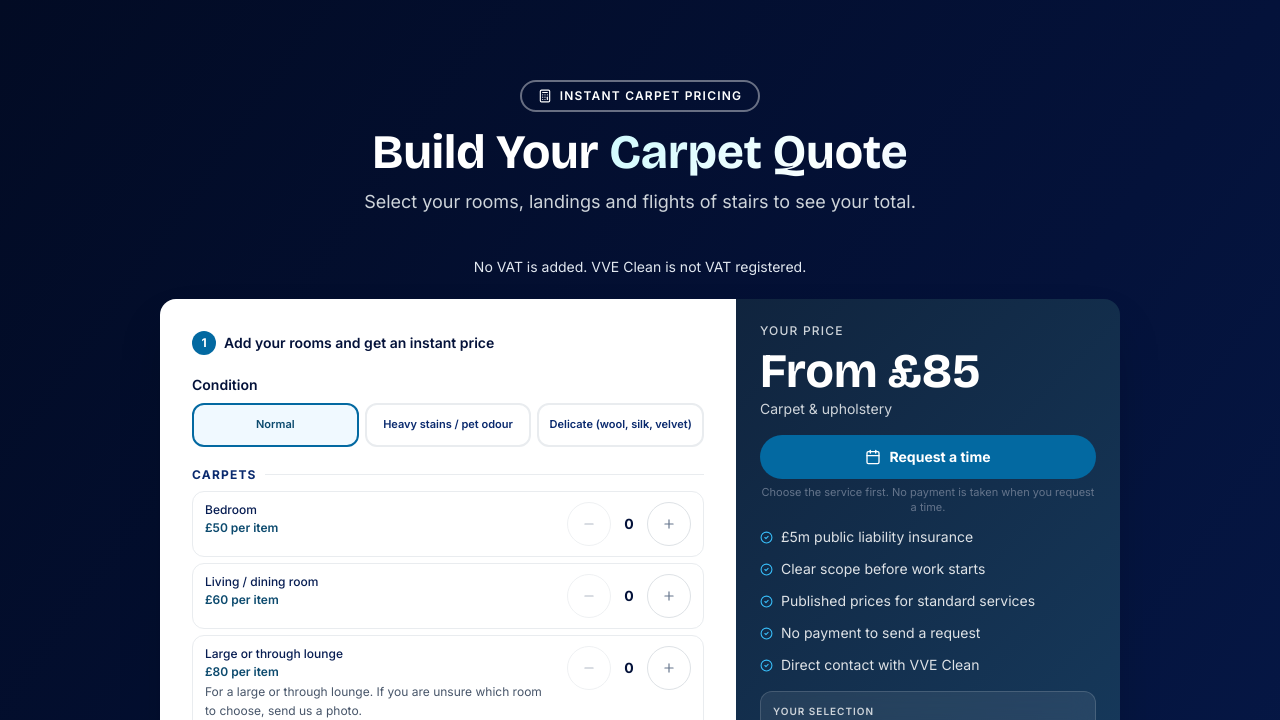
Test: Carpet page quote — carpet plus upholstery › adds a single sofa to the live total
The width and height of the screenshot is (1280, 720).
Click the button named "Increase Living / dining room quantity" at (669, 596), box [647,574,691,618]
(page scrolled)
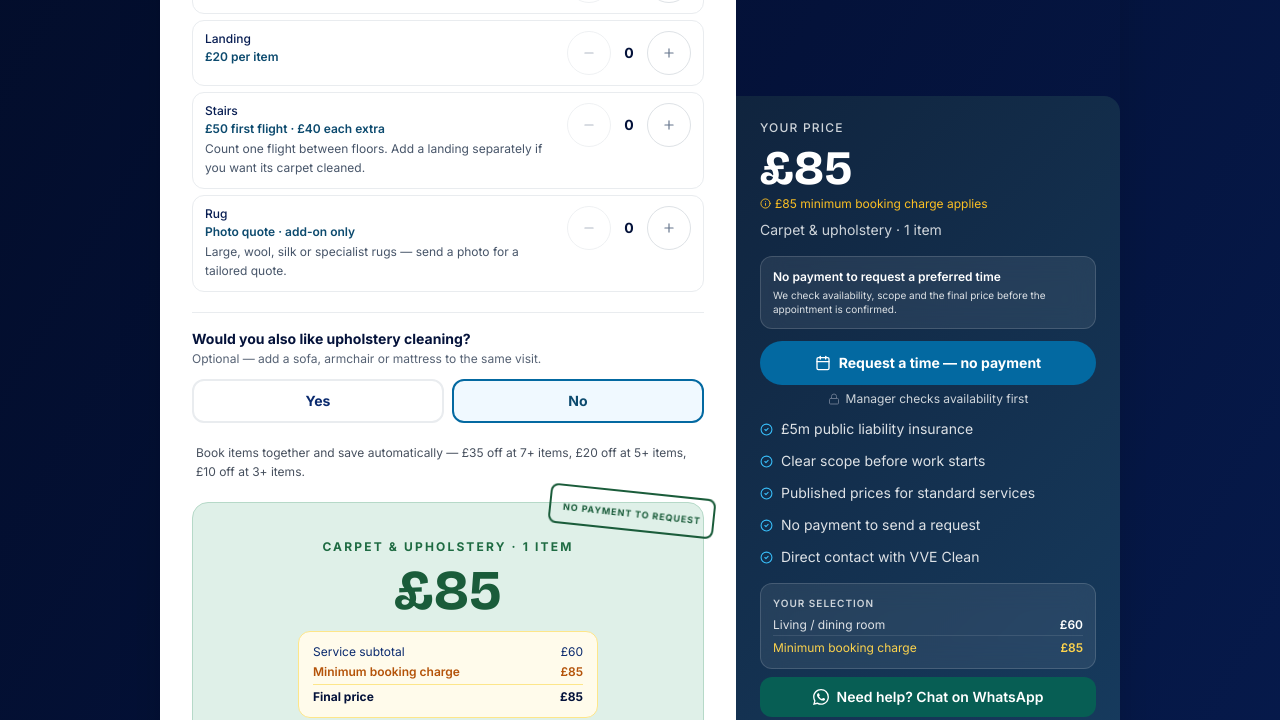
Click the button "Yes" at (318, 401), box [192,379,444,423]
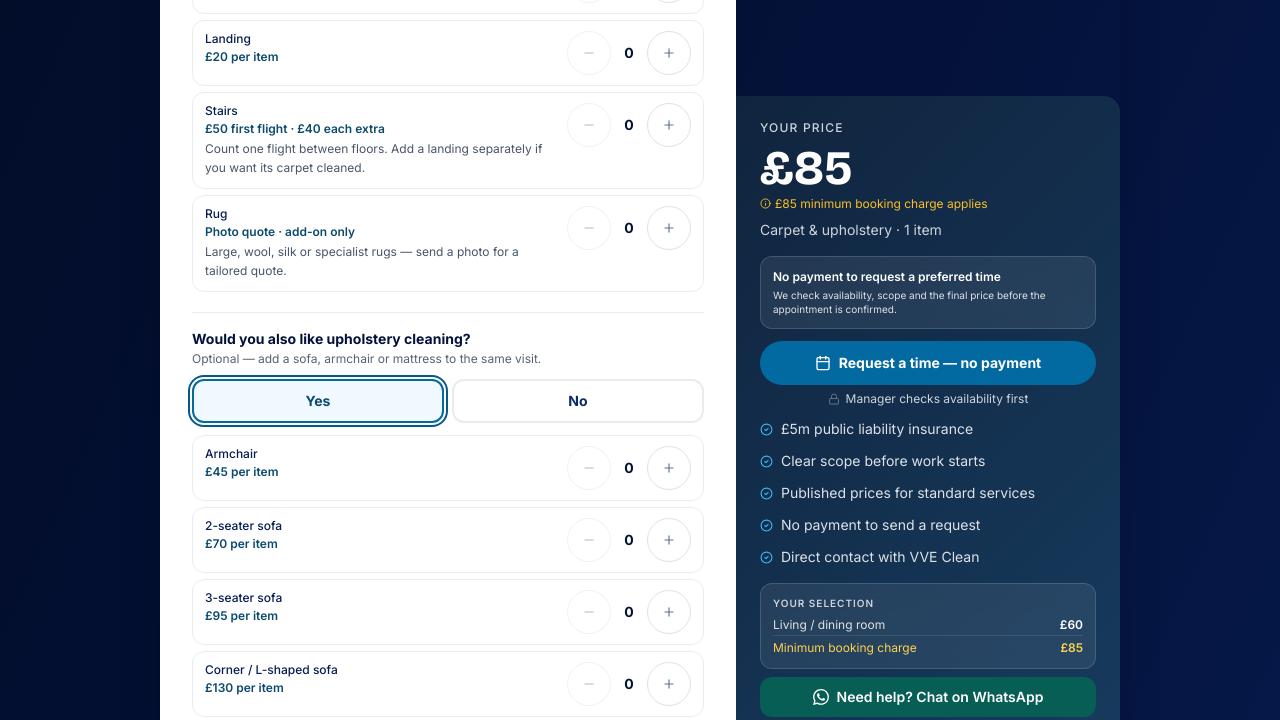
Click the button named "Increase 3-seater sofa quantity" at (669, 612), box [647,590,691,634]
(page scrolled)
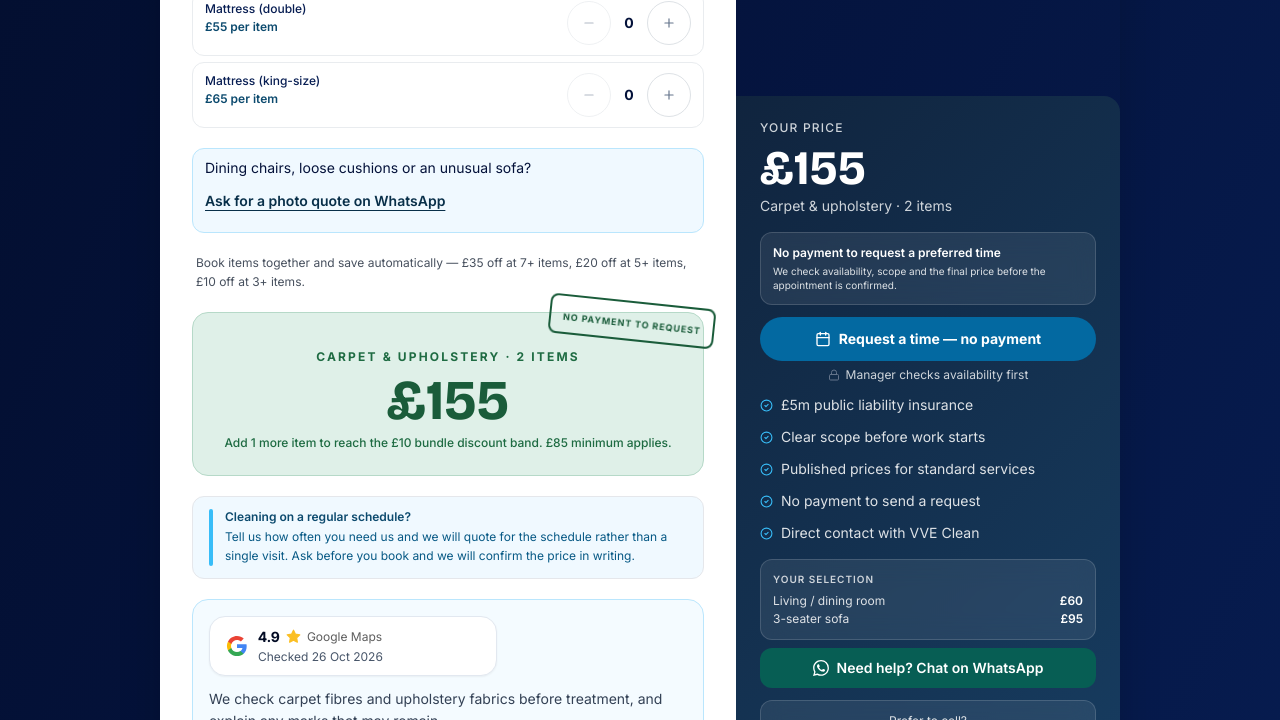
Now the text "£155" below "Ask for a photo quote on WhatsApp" is shown, box [387,366,509,434]
